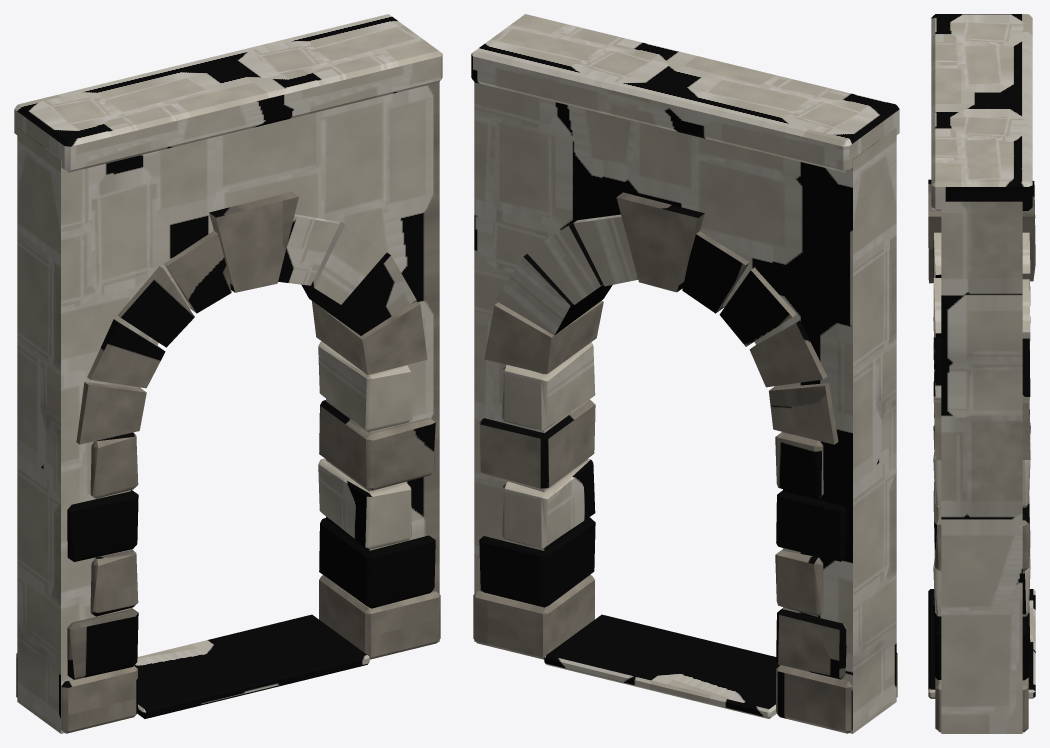
Rendered from stone_doorway.glb.
3 views of the same model, side by side, from view 1: azimuth 30°, elevation 25°; view 2: azimuth 150°, elevation 25°; view 3: azimuth 270°, elevation 25° (orthographic). The views are drawn at different scales.
Parts seen in each view (by area): view 1: wall, coping, threshold, jamb_long_1_right, jamb_long_0_right, plinth_right, keystone, jamb_short_0_right, jamb_short_1_right, voussoir_0_right, jamb_long_1_left, jamb_long_0_left (+10 smaller); view 2: wall, coping, threshold, jamb_long_1_right, jamb_long_0_right, plinth_right, keystone, jamb_short_0_right, jamb_short_1_right, voussoir_0_right, plinth_left, jamb_long_1_left (+10 smaller); view 3: wall, coping, threshold, keystone, jamb_long_0_right, jamb_long_1_right, voussoir_2_right, voussoir_0_right, voussoir_1_right, voussoir_3_right, jamb_short_1_right, jamb_short_0_right (+1 smaller).
Boxes of the visible parts, left/top/right/bottom form: wall: left=17, top=82, right=439, bottom=733; coping: left=14, top=14, right=442, bottom=172; threshold: left=134, top=614, right=369, bottom=718; jamb_long_1_right: left=319, top=400, right=435, bottom=490; jamb_long_0_right: left=319, top=518, right=435, bottom=608; plinth_right: left=319, top=575, right=440, bottom=659; keystone: left=209, top=191, right=298, bottom=292; jamb_short_0_right: left=318, top=458, right=411, bottom=549; jamb_short_1_right: left=318, top=341, right=411, bottom=431; voussoir_0_right: left=312, top=301, right=427, bottom=375; jamb_long_1_left: left=67, top=490, right=138, bottom=561; jamb_long_0_left: left=67, top=607, right=138, bottom=679; wall: left=474, top=82, right=896, bottom=733; coping: left=471, top=14, right=899, bottom=172; threshold: left=544, top=614, right=780, bottom=718; jamb_long_1_right: left=479, top=399, right=595, bottom=489; jamb_long_0_right: left=479, top=517, right=595, bottom=607; plinth_right: left=473, top=574, right=594, bottom=659; keystone: left=616, top=192, right=704, bottom=292; jamb_short_0_right: left=501, top=458, right=595, bottom=547; jamb_short_1_right: left=501, top=342, right=595, bottom=429; voussoir_0_right: left=484, top=300, right=603, bottom=374; plinth_left: left=776, top=653, right=897, bottom=733; jamb_long_1_left: left=776, top=490, right=846, bottom=561; wall: left=941, top=201, right=1022, bottom=733; coping: left=931, top=14, right=1032, bottom=210; threshold: left=928, top=589, right=1035, bottom=698; keystone: left=928, top=179, right=1035, bottom=283; jamb_long_0_right: left=933, top=605, right=1030, bottom=680; jamb_long_1_right: left=933, top=496, right=1030, bottom=570; voussoir_2_right: left=933, top=278, right=1030, bottom=338; voussoir_0_right: left=933, top=396, right=1030, bottom=460; voussoir_1_right: left=933, top=337, right=1030, bottom=397; voussoir_3_right: left=933, top=232, right=1030, bottom=288; jamb_short_1_right: left=933, top=440, right=1030, bottom=507; jamb_short_0_right: left=933, top=550, right=1030, bottom=616.
Size of what is drawn, in the model's own units: 2 by 3 by 0.5315.
Materials: 2 (2 with a texture image).
